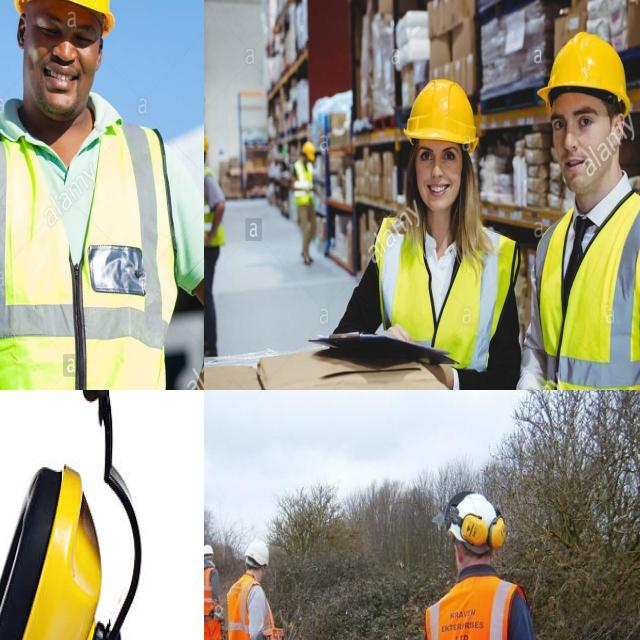Ear-protection: (0, 390, 165, 640)
No_Ear-Protection: (13, 9, 32, 54)
No_Glasses: (34, 11, 102, 52), (548, 105, 602, 140), (416, 140, 462, 168)
face_nomask: (18, 9, 103, 120), (548, 95, 617, 193), (414, 139, 466, 216)
head_helmet: (537, 25, 633, 121), (390, 69, 490, 148), (443, 492, 506, 551), (10, 0, 115, 33), (244, 537, 271, 564), (302, 140, 318, 158), (204, 543, 213, 556)
person: (0, 0, 204, 390), (364, 59, 522, 390), (509, 25, 640, 390), (419, 491, 542, 640), (226, 540, 285, 640), (204, 124, 226, 351), (290, 138, 322, 263), (204, 543, 226, 640)
vest: (0, 99, 178, 390), (378, 209, 523, 390), (516, 196, 640, 390), (424, 576, 522, 640), (225, 574, 274, 640), (291, 162, 324, 210), (204, 170, 224, 248), (204, 565, 221, 619)
